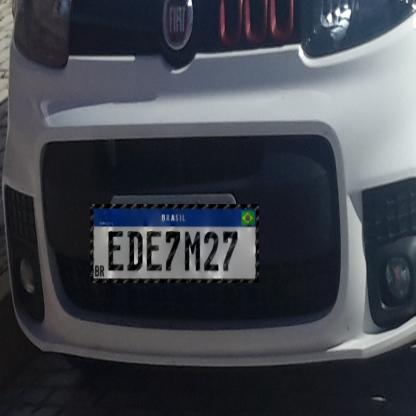PlacaM: (90, 204, 258, 283)
